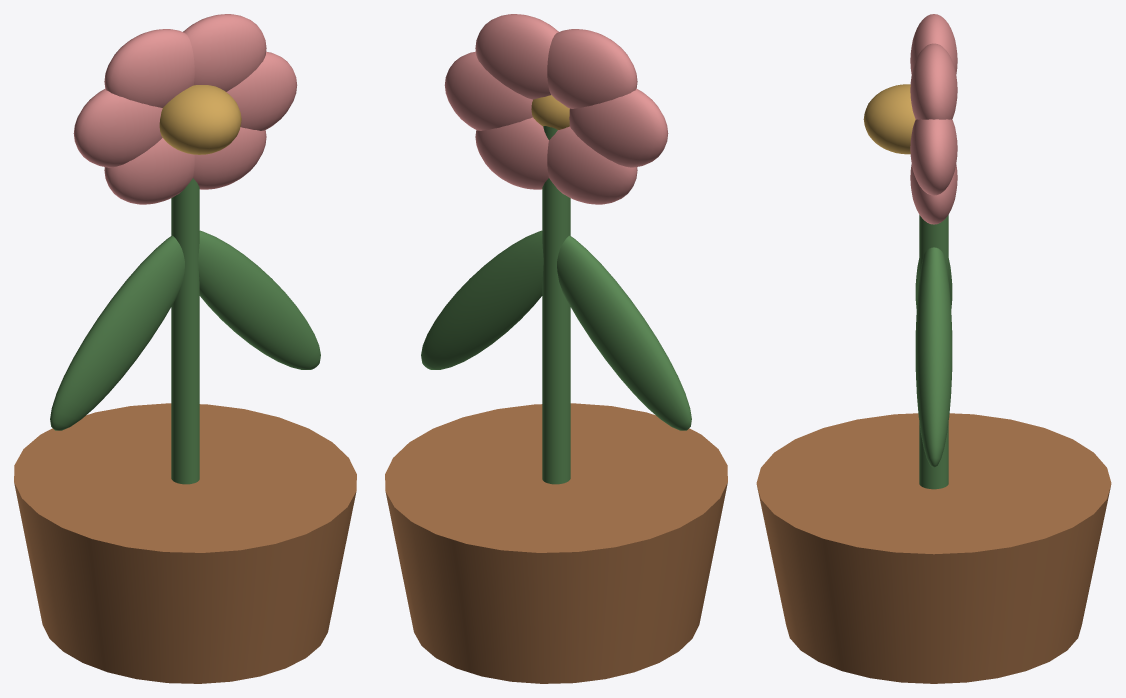
The model's file is wp-rose-en-pot.glb.
3 views of the same model, side by side, from view 1: azimuth 30°, elevation 25°; view 2: azimuth 150°, elevation 25°; view 3: azimuth 270°, elevation 25° (orthographic).
Visible parts, largest first — view 1: wp-rose-en-pot; view 2: wp-rose-en-pot; view 3: wp-rose-en-pot.
Boxes of the visible parts, left/top/right/bottom form: wp-rose-en-pot: left=14, top=14, right=356, bottom=683; wp-rose-en-pot: left=385, top=14, right=727, bottom=683; wp-rose-en-pot: left=756, top=14, right=1111, bottom=683.
Bounding box in the file's own units: 0.2832 × 0.55 × 0.3.
